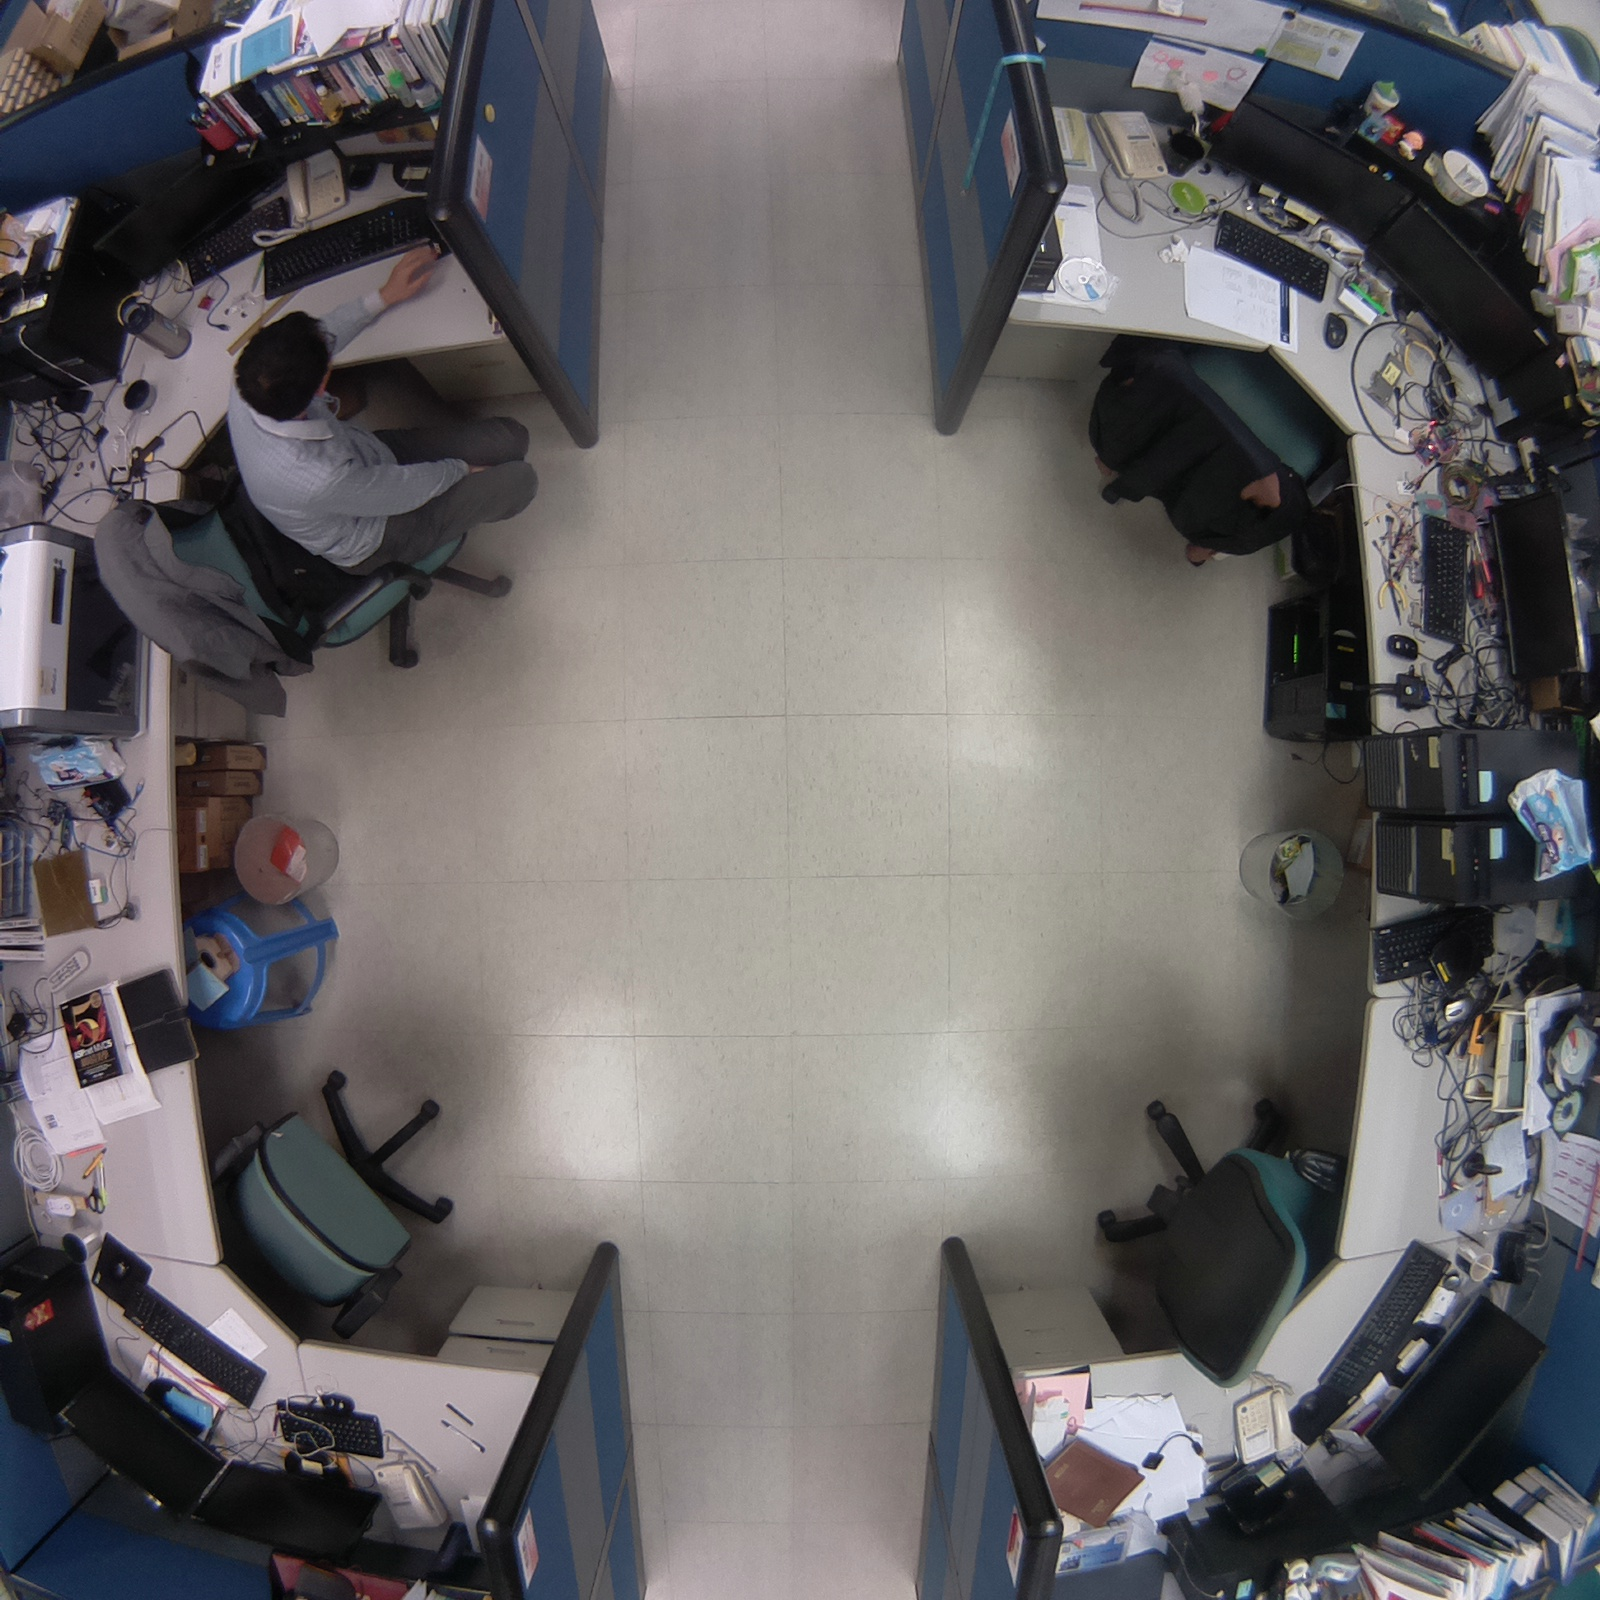chair: (1058, 1078, 1353, 1401), (194, 1055, 488, 1355), (1073, 306, 1350, 588)
head: (234, 300, 344, 417)
sitting: (78, 273, 540, 722)
